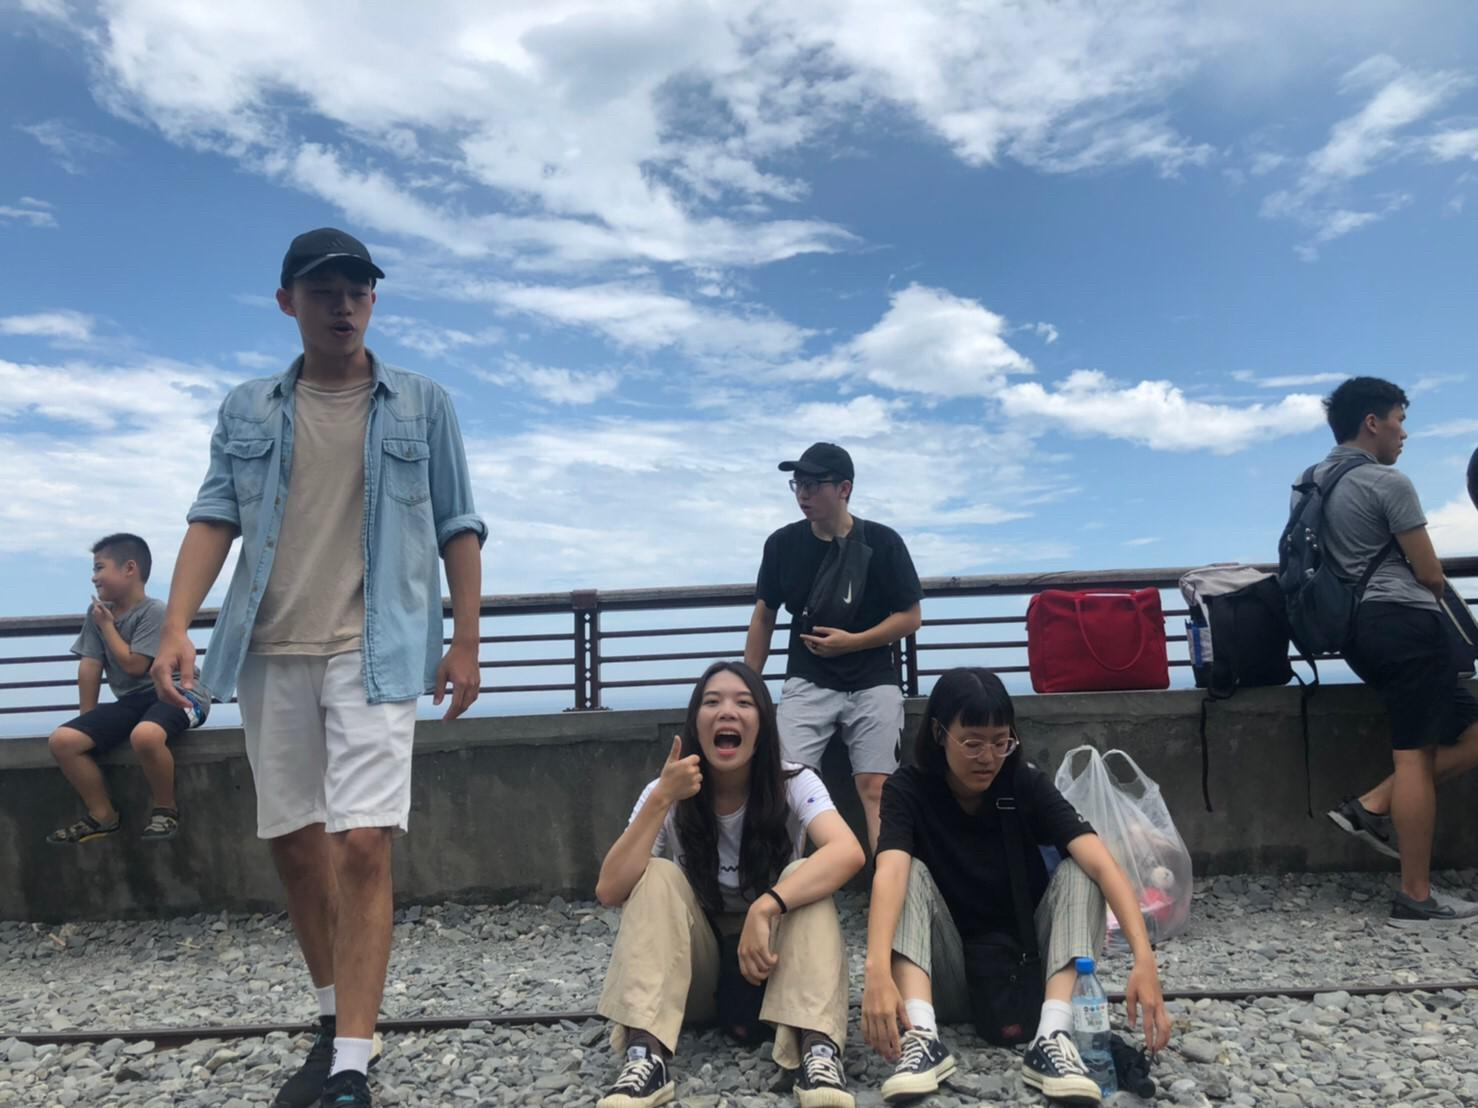people: (240, 223, 429, 1105), (1298, 373, 1477, 948), (658, 665, 829, 1108), (913, 642, 1067, 1100), (781, 440, 902, 836), (58, 536, 208, 844)
